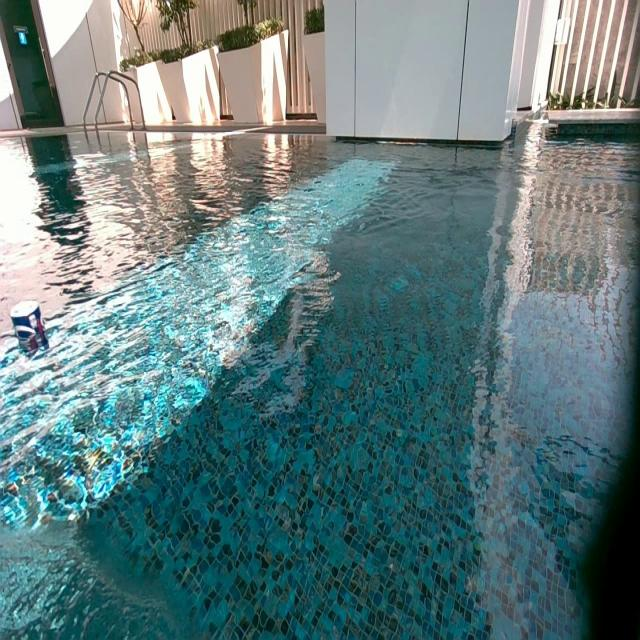Cans: (9, 298, 44, 336)
